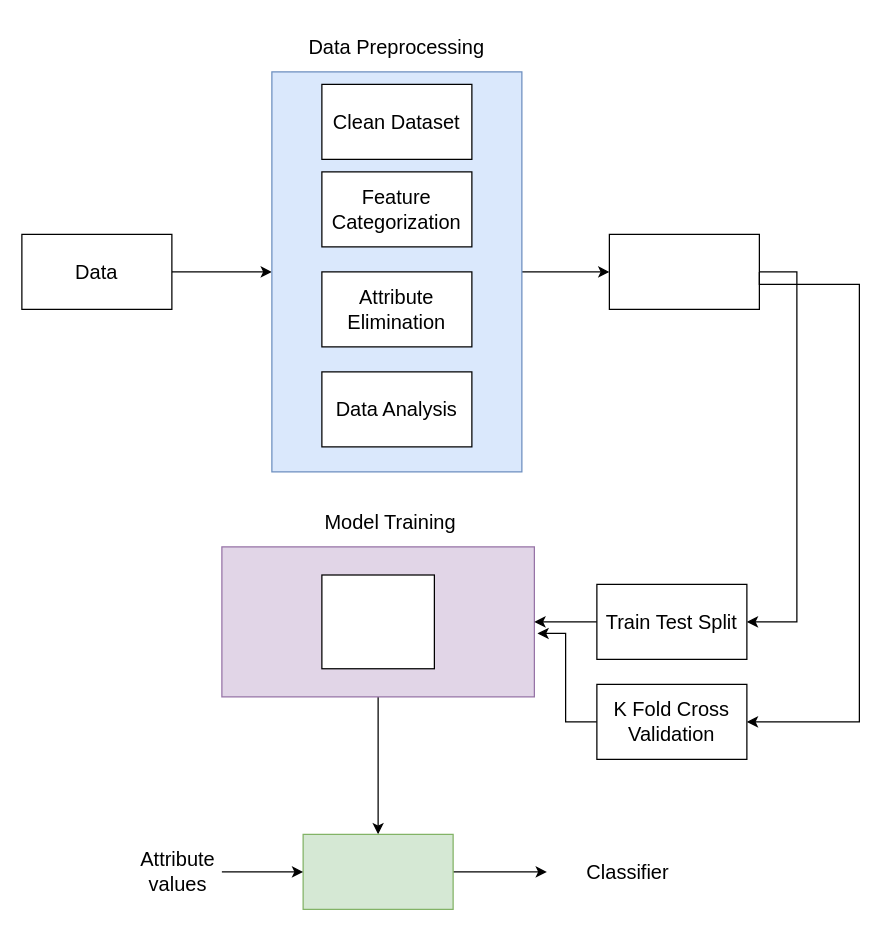
The diagram is 891 pixels wide and 931 high, and some of its shapes have lost their labels. The centre of each missing label's shape, as x and y in pixels:
"Classifiers" belongs at pixel 377 621.
"Model" belongs at pixel 377 871.
"Preprocessed Data" belongs at pixel 683 271.
